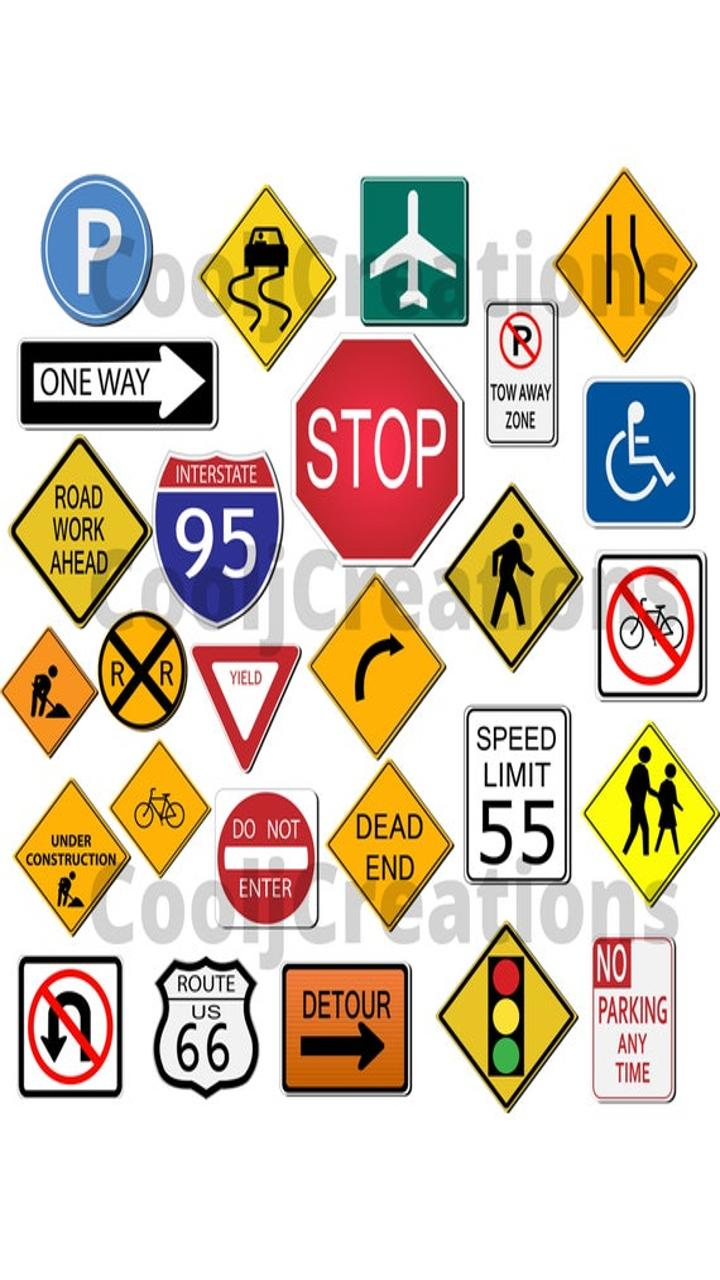Traffic sign: (551, 153, 698, 368), (573, 337, 720, 552), (573, 525, 720, 740), (573, 695, 720, 910), (573, 899, 720, 1114), (434, 917, 581, 1132), (270, 937, 417, 1152), (125, 919, 272, 1134), (9, 923, 156, 1138), (199, 173, 326, 373), (347, 138, 474, 338), (311, 580, 444, 756), (451, 709, 584, 885), (449, 707, 582, 883), (449, 494, 582, 670), (195, 587, 328, 763), (195, 783, 338, 946), (109, 732, 252, 895), (1, 776, 143, 939), (12, 339, 247, 435), (11, 152, 156, 307)
